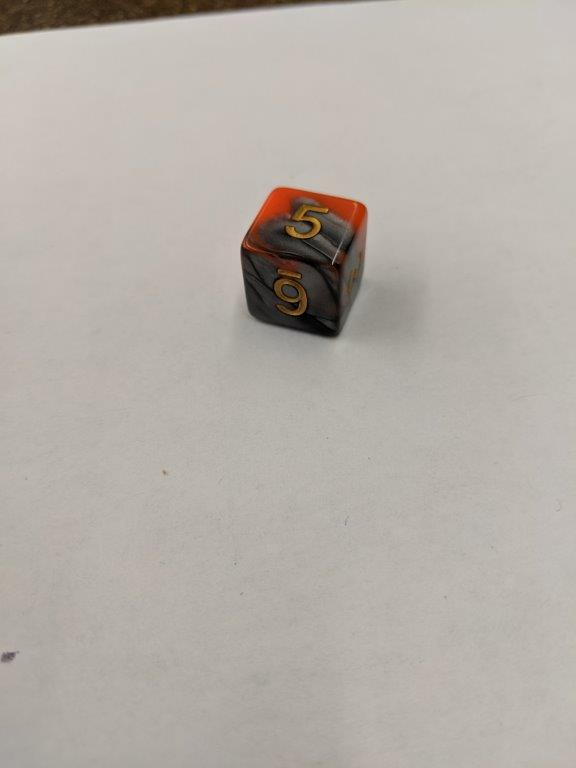d6-5: (239, 186, 366, 337)
